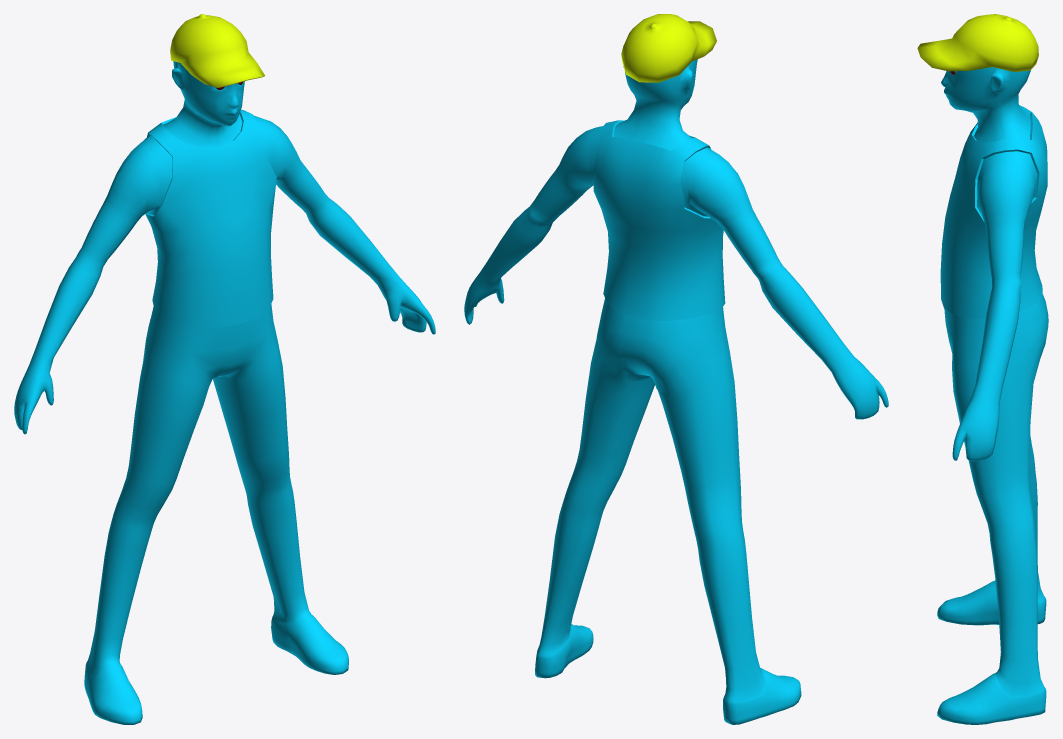
Rendered from Poli2.fbx.
3 renders of one model, left to right at view 1: azimuth 30°, elevation 25°; view 2: azimuth 150°, elevation 25°; view 3: azimuth 270°, elevation 25°, orthographic. The views are drawn at different scales.
Visible parts, largest first — view 1: Cube; view 2: Cube; view 3: Cube.
Part boxes in pixels (x1=…): Cube: x1=14, y1=14, x2=435, y2=724; Cube: x1=464, y1=14, x2=888, y2=724; Cube: x1=917, y1=14, x2=1048, y2=724.
Size of the model in its own units: 1.21 by 1.85 by 0.3372.
